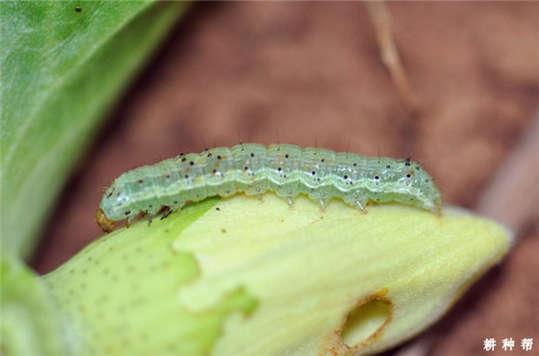caterpillars: (73, 120, 456, 252)
